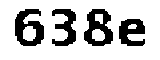3: (50, 7, 78, 53)
6: (12, 7, 45, 48)
8: (82, 8, 115, 49)
e: (117, 17, 148, 51)
